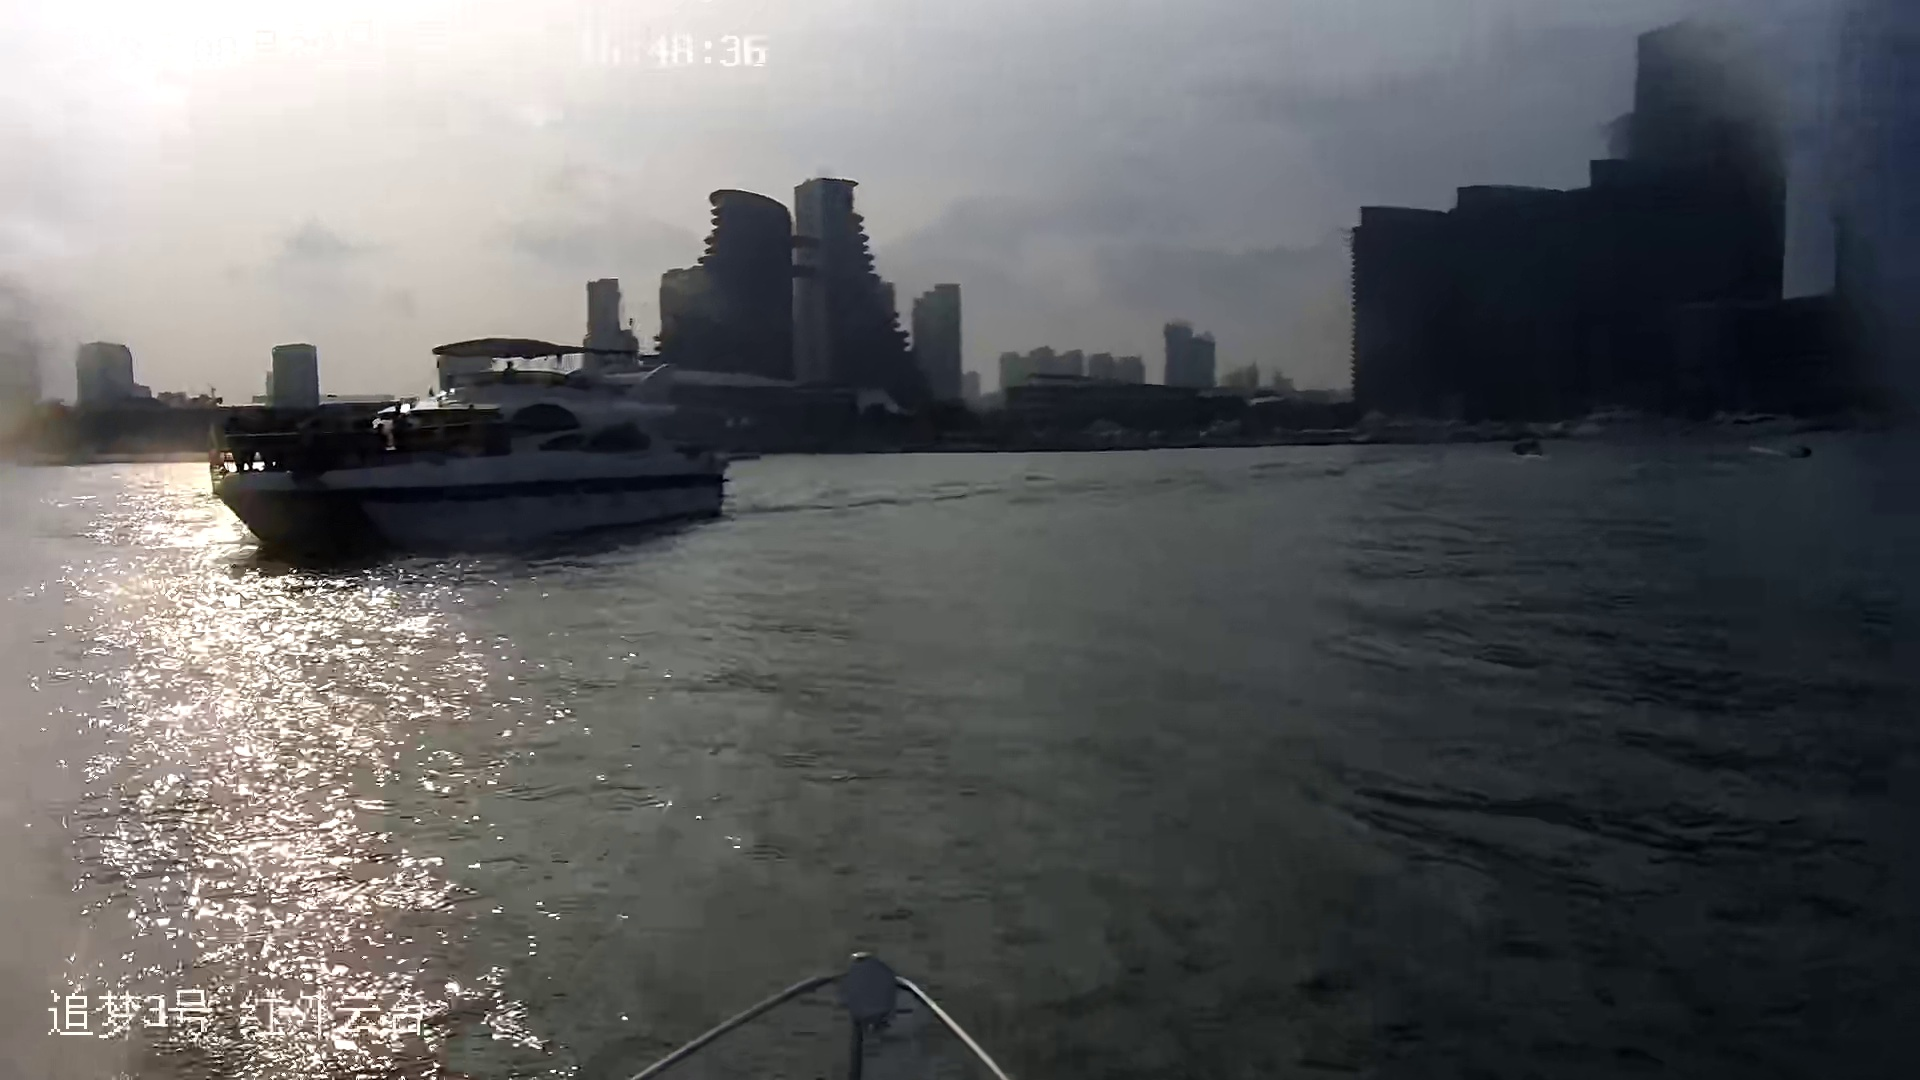barrier: (222, 330, 746, 560)
coast: (9, 3, 1905, 480)
